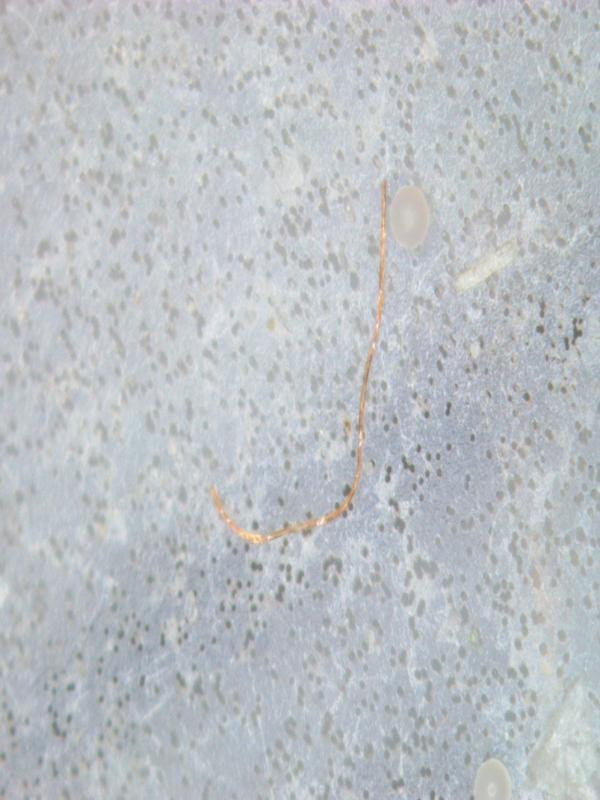microplastic: (209, 177, 388, 545)
